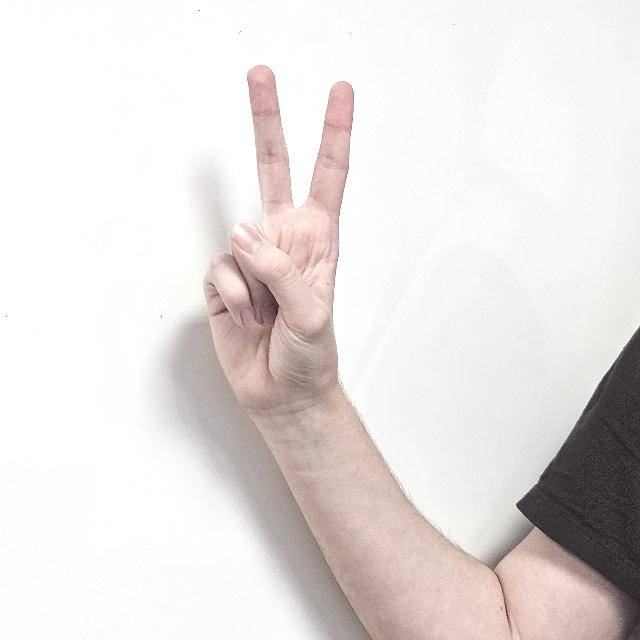Triangulo: (198, 64, 386, 452)
